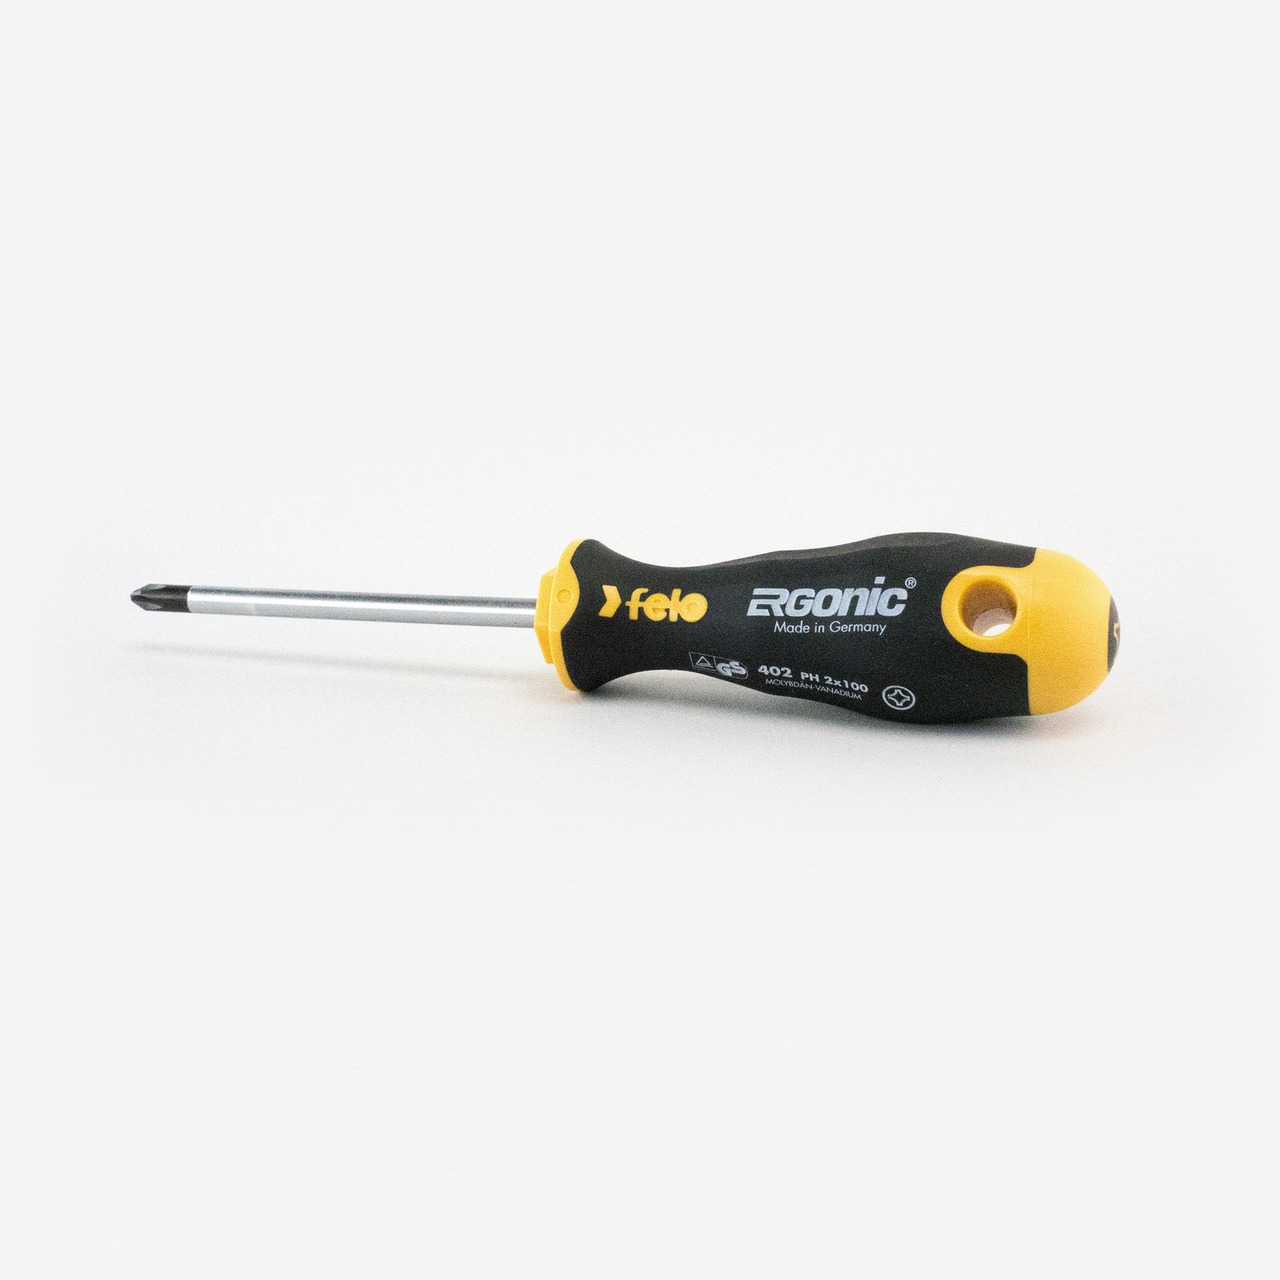screwdriver: (110, 520, 1129, 728)
